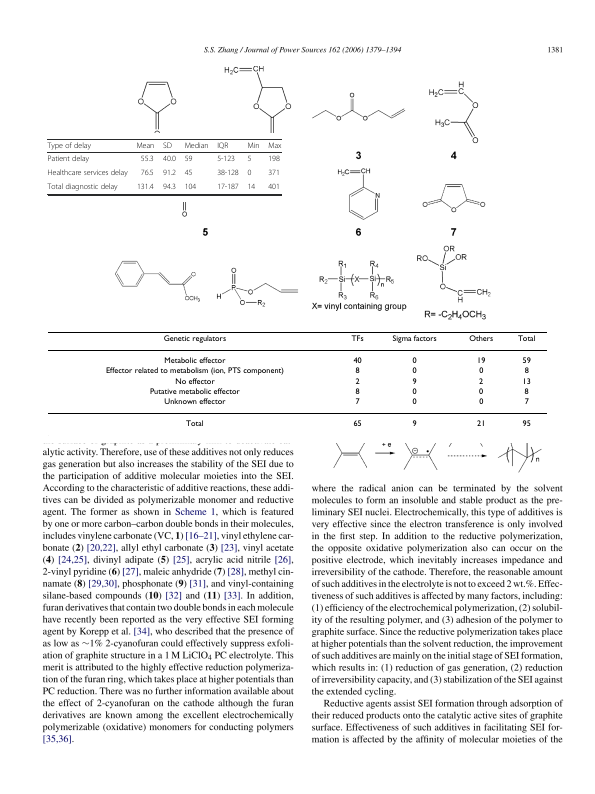borderless: (46, 330, 548, 437), (46, 138, 281, 194)
cell: (104, 367, 284, 377), (148, 387, 240, 397), (47, 169, 129, 179), (47, 183, 119, 193), (162, 334, 227, 344), (163, 357, 226, 366), (163, 398, 226, 407), (391, 334, 437, 344), (47, 155, 90, 165), (174, 377, 215, 387), (47, 142, 92, 151), (468, 334, 494, 344), (216, 169, 240, 179), (216, 183, 240, 193), (184, 142, 209, 151), (516, 334, 536, 344), (216, 155, 236, 165), (185, 420, 204, 430), (136, 183, 155, 193), (135, 142, 155, 151), (140, 155, 155, 165), (162, 155, 177, 165), (140, 169, 155, 179), (162, 169, 177, 179), (162, 183, 177, 193), (350, 334, 364, 344), (267, 155, 281, 165), (267, 169, 281, 179), (267, 183, 281, 193), (267, 142, 282, 151), (184, 183, 197, 193), (246, 142, 260, 151), (216, 142, 229, 151), (521, 377, 531, 387), (352, 420, 362, 430), (476, 420, 486, 430), (521, 420, 531, 430), (246, 183, 256, 193), (162, 142, 173, 151), (352, 357, 362, 366), (476, 357, 486, 366), (521, 357, 531, 366), (184, 155, 193, 165), (184, 169, 193, 179), (354, 367, 360, 377), (411, 367, 417, 377), (478, 367, 484, 377), (523, 367, 529, 377), (354, 377, 360, 387), (411, 377, 417, 387), (478, 377, 484, 387), (354, 387, 360, 397), (411, 387, 417, 397), (478, 387, 484, 397), (523, 387, 529, 397), (411, 420, 417, 430), (246, 155, 252, 165), (246, 169, 252, 179), (411, 357, 417, 366), (354, 398, 360, 407), (411, 398, 417, 407), (478, 398, 484, 407), (523, 398, 529, 407)
